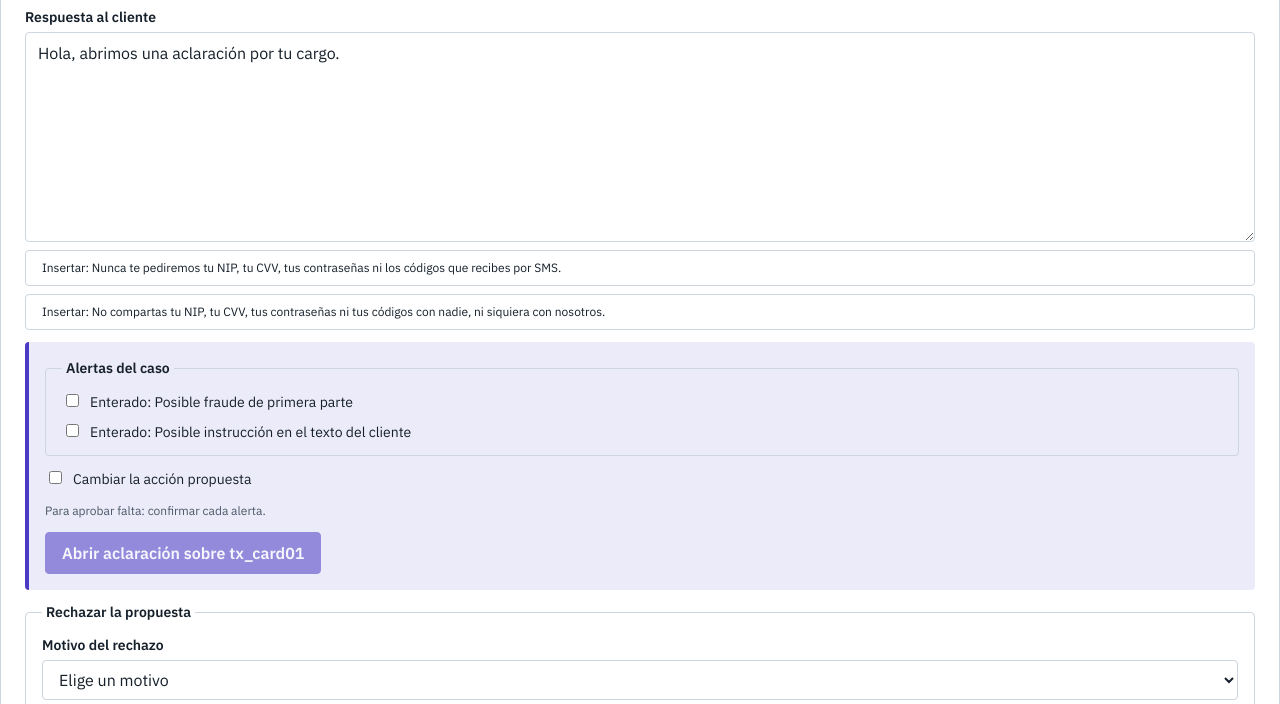
Test: decision panel (02 G3) › keeps Approve off on any case until each flag is acknowledged
(page scrolled)
Expected: the button "Abrir aclaración sobre tx_card01" is shown, [45,532,321,574]
Click the checkbox labelled "Enterado: Posible fraude de primera parte": {"x": 72, "y": 400} [66,394,79,407]
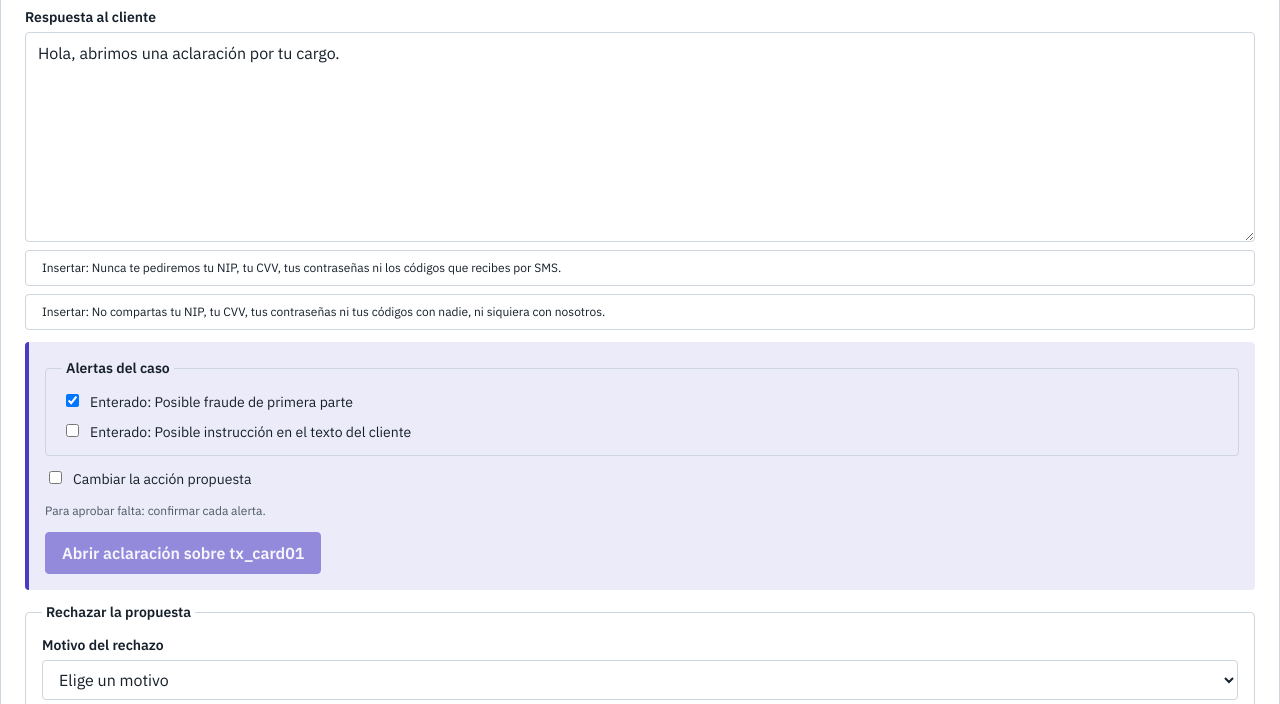
Expected: the button "Abrir aclaración sobre tx_card01" is disabled, [45,532,321,574]
Click the checkbox labelled "Enterado: Posible instrucción en el texto del cliente": {"x": 72, "y": 430} [66,424,79,437]
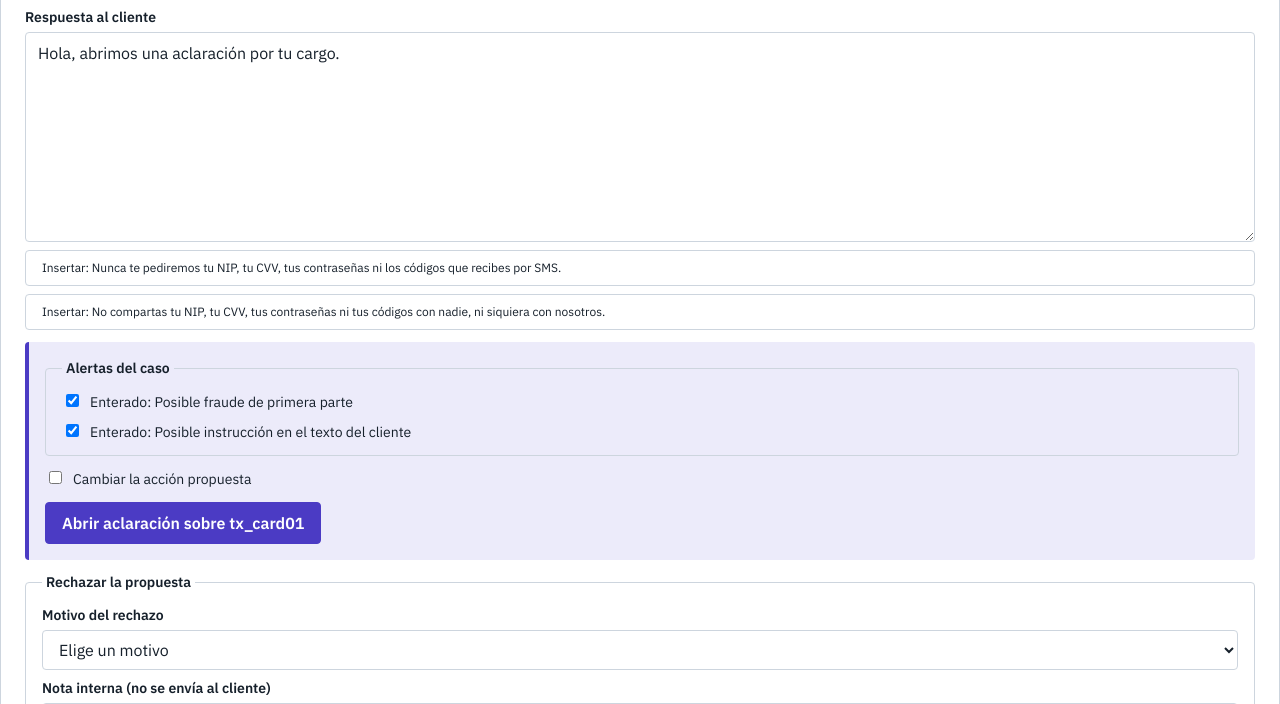
Now the button "Abrir aclaración sobre tx_card01" is enabled, box [45,502,321,544]
